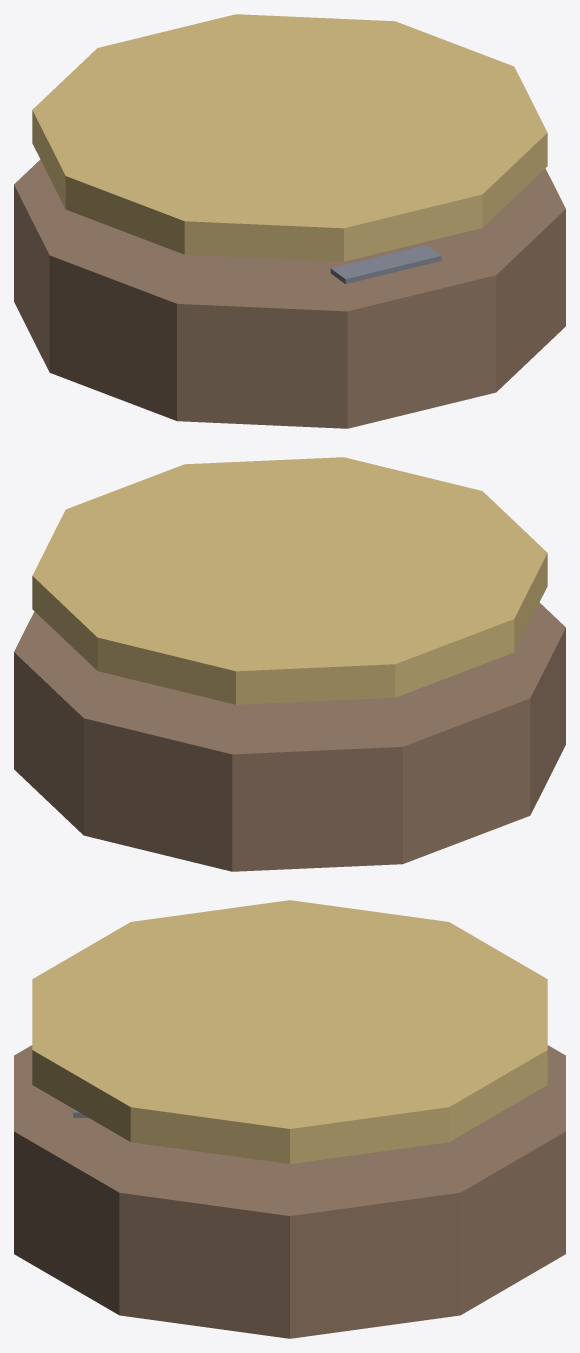
The model's file is cofre_tesoro.glb.
The picture shows the model from 3 angles, top to bottom: view 1: azimuth 30°, elevation 25°; view 2: azimuth 150°, elevation 25°; view 3: azimuth 270°, elevation 25°; orthographic projection. The views are drawn at different scales.
Visible parts, largest first — view 1: part_001, part_000, part_002; view 2: part_001, part_000; view 3: part_001, part_000.
Part boxes in pixels (<box>): part_001: <box>32,14,547,261</box>; part_000: <box>14,159,565,428</box>; part_002: <box>330,245,441,284</box>; part_001: <box>32,457,547,704</box>; part_000: <box>14,602,565,871</box>; part_001: <box>32,900,547,1163</box>; part_000: <box>14,1045,565,1338</box>.
Bounding box in the file's own units: 1.5 × 0.575 × 1.43.
